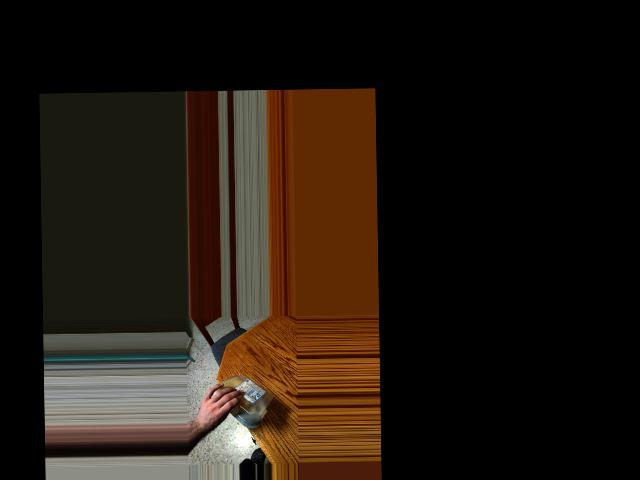cheese: (208, 374, 273, 427)
